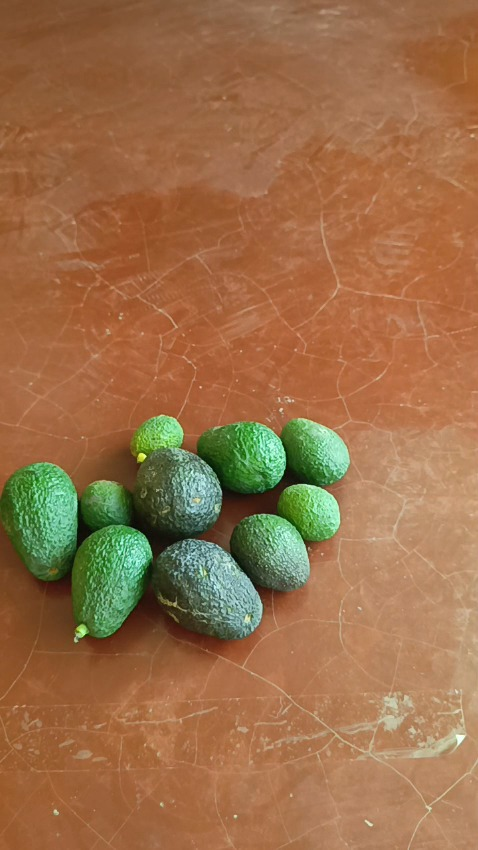Primera: (151, 538, 262, 639), (70, 524, 154, 639), (0, 462, 79, 581), (132, 448, 224, 539), (196, 421, 286, 493)
Segunda: (229, 514, 310, 592), (280, 418, 349, 486)
Tercera: (276, 482, 339, 542), (80, 479, 134, 531), (130, 415, 184, 462)
